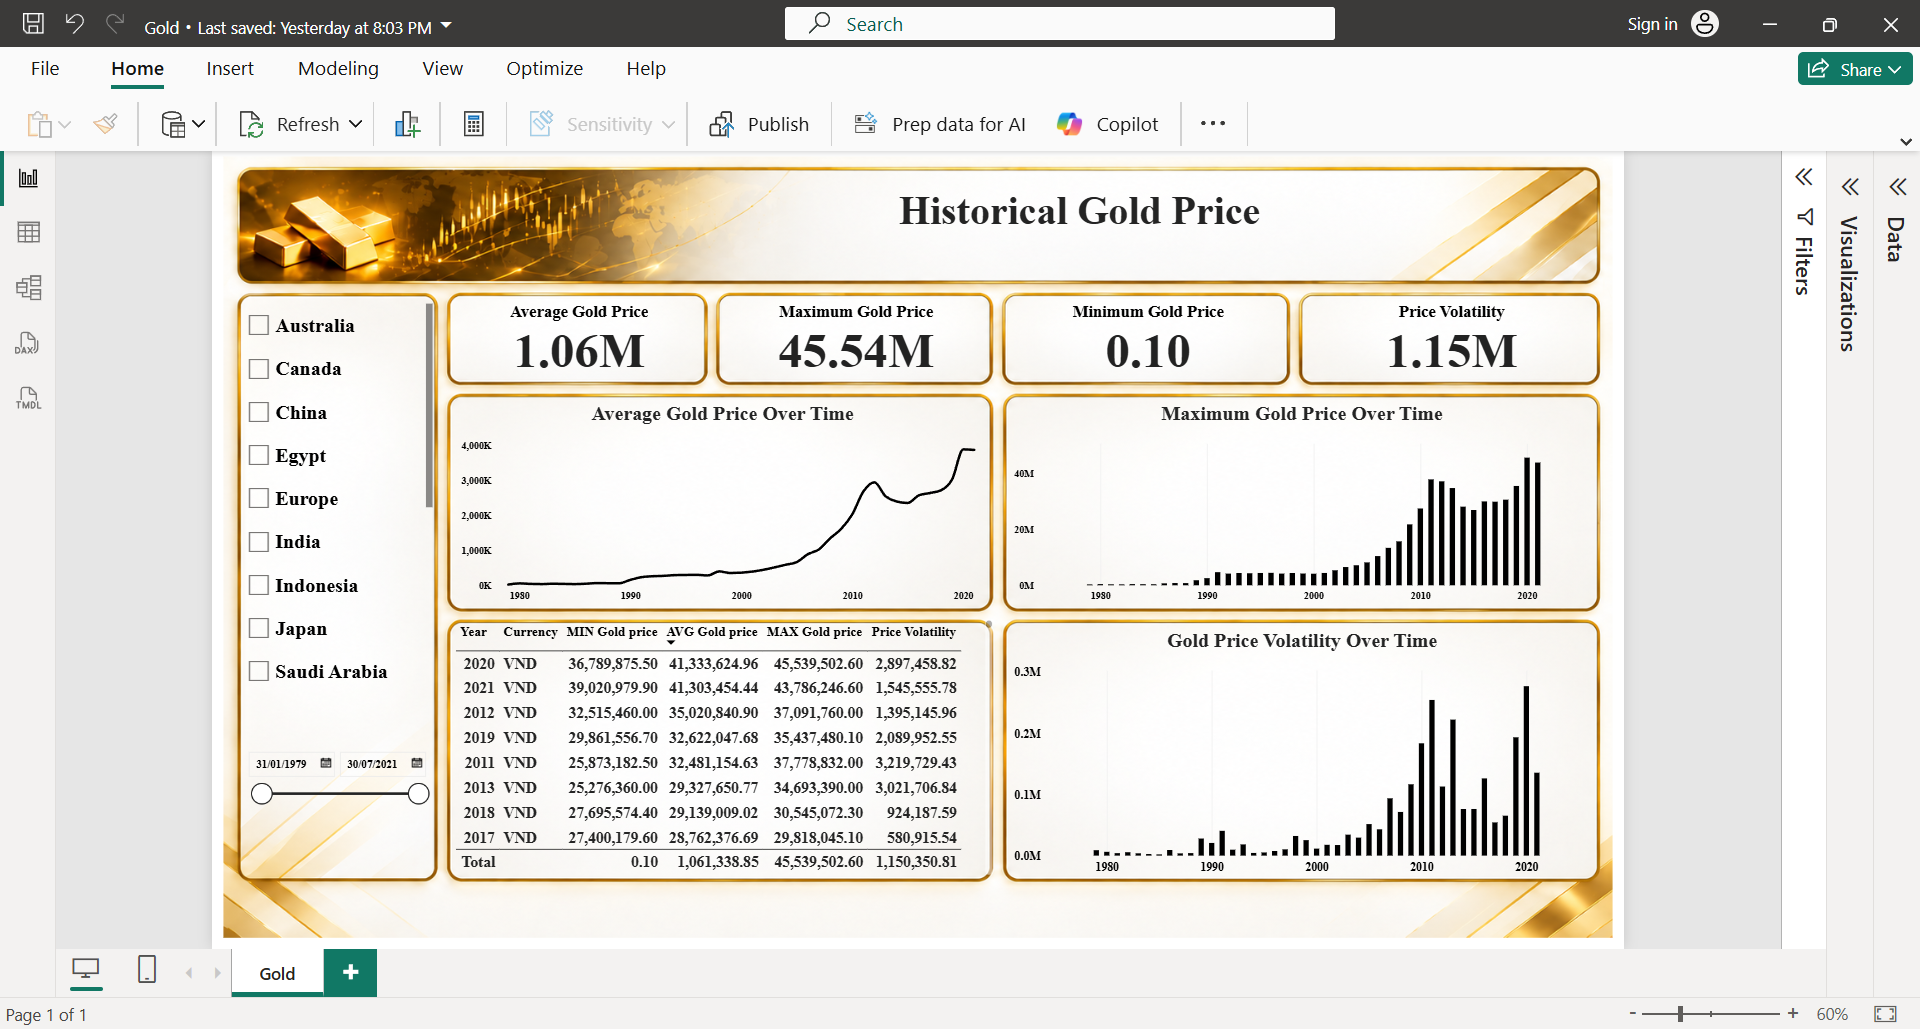

Layout of this report page (visuals, bound fields, positions):
{"tool":"powerbi","page":{"name":"Page 1","canvas":[1700,960],"ordinal":0},"visuals":[{"type":"cardVisual","fields":{"Data":["1979-2021.AVG Gold price"]},"box":[286.1,172.1,311.5,114.1],"z":0},{"type":"cardVisual","fields":{"Data":["1979-2021.MAX Gold price"]},"box":[610.3,172.1,329.6,114.1],"z":1000},{"type":"cardVisual","fields":{"Data":["1979-2021.MIN Gold price"]},"box":[952.6,172.1,347.7,114.1],"z":2000},{"type":"cardVisual","fields":{"Data":["1979-2021.Price Volatility"]},"box":[1314.8,172.1,356.8,114.1],"z":3000},{"type":"lineChart","title":"Average Gold Price Over Time","fields":{"Category":["1979-2021.Date.Variation.Date Hierarchy.Year","1979-2021.Date.Variation.Date Hierarchy.Quarter","1979-2021.Date.Variation.Date Hierarchy.Month","1979-2021.Date.Variation.Date Hierarchy.Day"],"Y":["1979-2021.AVG Gold price"]},"box":[300,302.2,630,243.3],"z":4000},{"type":"slicer","fields":{"Values":["1979-2021.Country"]},"box":[36.4,184.1,229,479.5],"z":5000},{"type":"clusteredColumnChart","title":"Gold Price Volatility Over Time","fields":{"Category":["1979-2021.Date.Variation.Date Hierarchy.Year","1979-2021.Date.Variation.Date Hierarchy.Quarter","1979-2021.Date.Variation.Date Hierarchy.Month","1979-2021.Date.Variation.Date Hierarchy.Day"],"Y":["1979-2021.Price Volatility"]},"box":[964.3,575.7,694.3,297.1],"z":6000},{"type":"tableEx","fields":{"Values":["1979-2021.Date.Variation.Date Hierarchy.Year","1979-2021.Currency","1979-2021.MIN Gold price","1979-2021.AVG Gold price","1979-2021.MAX Gold price","1979-2021.Price Volatility"]},"box":[293.3,565,646.7,306.7],"z":7000},{"type":"slicer","fields":{"Values":["1979-2021.Date"]},"box":[36.7,718.3,228.3,93.3],"z":8000},{"type":"clusteredColumnChart","title":"Maximum Gold Price Over Time","fields":{"Category":["1979-2021.Date.Variation.Date Hierarchy.Year","1979-2021.Date.Variation.Date Hierarchy.Quarter","1979-2021.Date.Variation.Date Hierarchy.Month","1979-2021.Date.Variation.Date Hierarchy.Day"],"Y":["1979-2021.MAX Gold price"]},"box":[964.3,302.9,694.3,242.9],"z":9000},{"type":"textbox","box":[415,45,1257.5,127.5],"z":10000}]}

Visuals, with their boxes on the page's 1700x960 design canvas (x1, y1, x2, y2). These are canvas units, not pixel positions in the 1920x1029 screenshot, which may show the page scaled, cropped or inside an application window:
cardVisual - 1979-2021.AVG Gold price: rect(286, 172, 598, 286)
cardVisual - 1979-2021.MAX Gold price: rect(610, 172, 940, 286)
cardVisual - 1979-2021.MIN Gold price: rect(953, 172, 1300, 286)
cardVisual - 1979-2021.Price Volatility: rect(1315, 172, 1672, 286)
"Average Gold Price Over Time" lineChart: rect(300, 302, 930, 546)
slicer - 1979-2021.Country: rect(36, 184, 265, 664)
"Gold Price Volatility Over Time" clusteredColumnChart: rect(964, 576, 1659, 873)
tableEx - 1979-2021.Date.Variation.Date Hierarchy.Year x 1979-2021.Currency: rect(293, 565, 940, 872)
slicer - 1979-2021.Date: rect(37, 718, 265, 812)
"Maximum Gold Price Over Time" clusteredColumnChart: rect(964, 303, 1659, 546)
textbox: rect(415, 45, 1672, 172)
